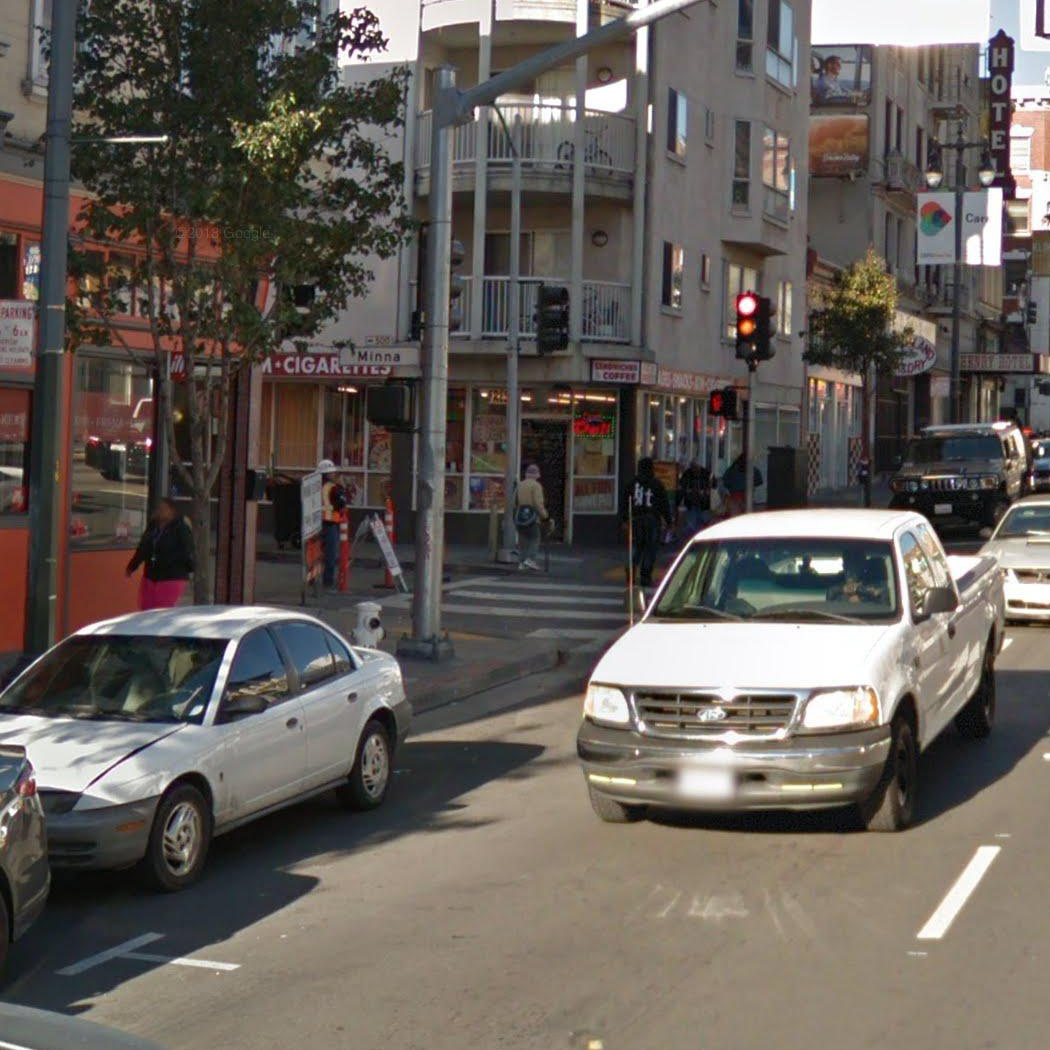No Parking: (0, 297, 42, 373)
